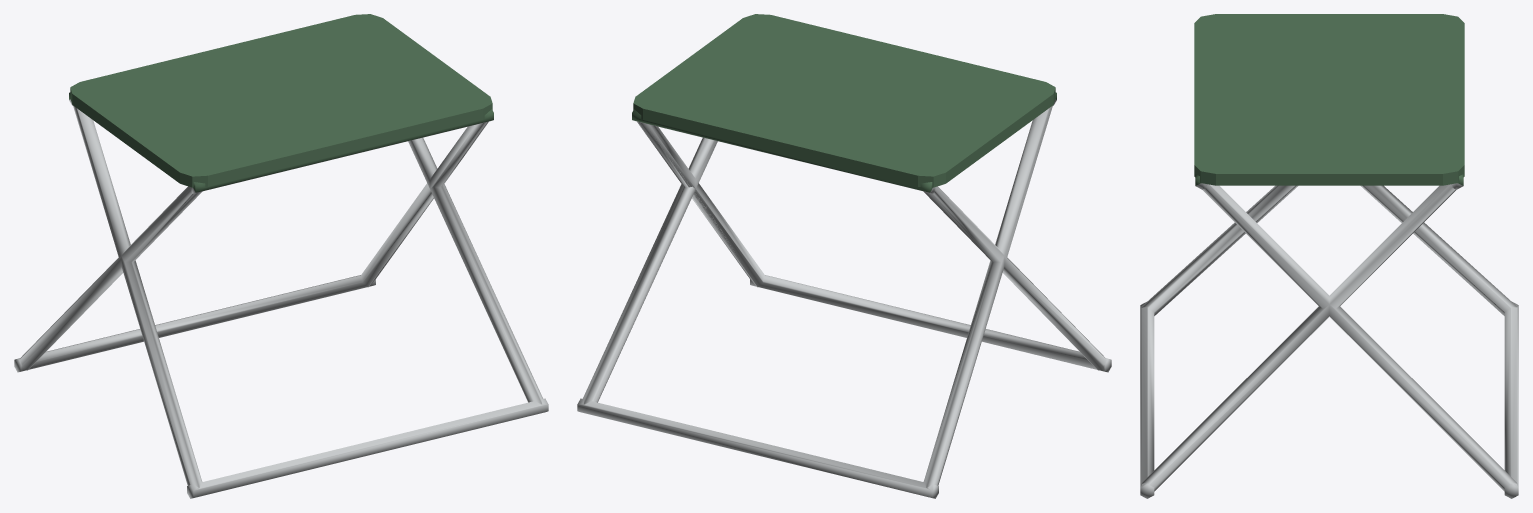
The model's file is folding_stool.glb.
3 views of the same model, side by side, from view 1: azimuth 30°, elevation 25°; view 2: azimuth 150°, elevation 25°; view 3: azimuth 270°, elevation 25° (orthographic). The views are drawn at different scales.
Parts seen in each view (by area): view 1: folding_stool; view 2: folding_stool; view 3: folding_stool.
Boxes of the visible parts, bbox=[...] form: folding_stool: bbox=[14, 14, 548, 498]; folding_stool: bbox=[577, 14, 1111, 498]; folding_stool: bbox=[1140, 14, 1518, 498].
Size of the model in its own units: 0.4 by 0.32 by 0.35.
